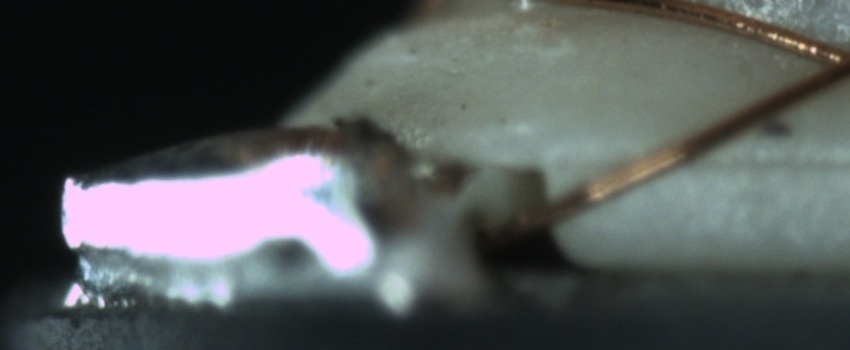DL: (670, 129, 850, 198)
